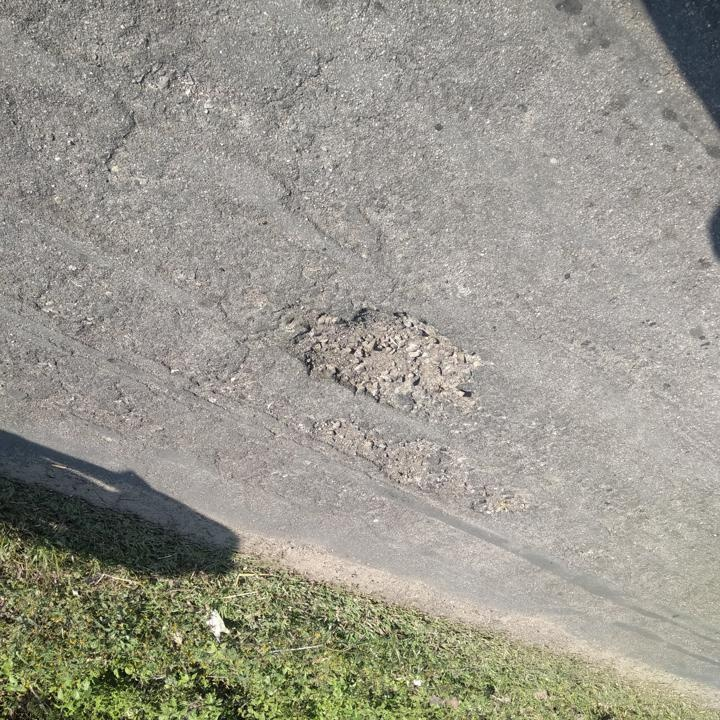pothole: (272, 304, 489, 419), (300, 414, 462, 491), (469, 482, 535, 521)
